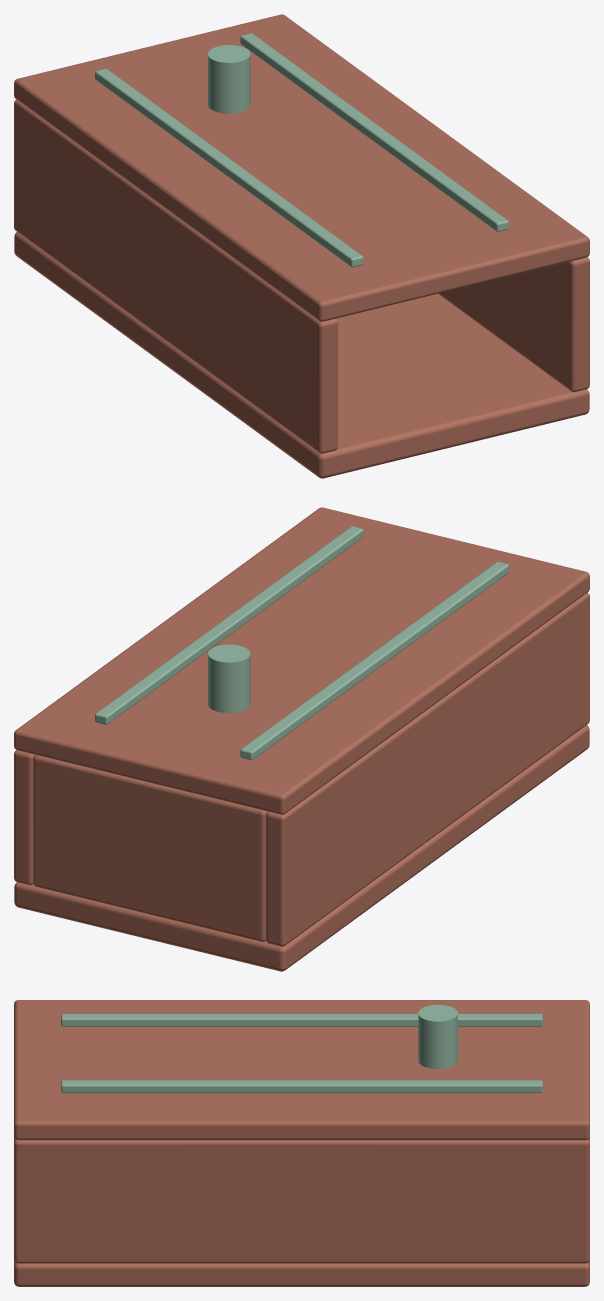
Rendered from enchanted-harp-garden-and-music-sanctuary-tuning-fork--1bae4934__30411.glb.
3 views of the same model, one above another, from view 1: azimuth 30°, elevation 25°; view 2: azimuth 150°, elevation 25°; view 3: azimuth 270°, elevation 25° (orthographic). The views are drawn at different scales.
Parts seen in each view (by area): view 1: tuning-fork-resonator; view 2: tuning-fork-resonator; view 3: tuning-fork-resonator.
Boxes of the visible parts, x1,y1,x2,y2 form: tuning-fork-resonator: (14, 14, 589, 478); tuning-fork-resonator: (14, 507, 589, 971); tuning-fork-resonator: (14, 1000, 589, 1286).
Bounding box in the file's own units: 0.28 × 0.225 × 0.55.
